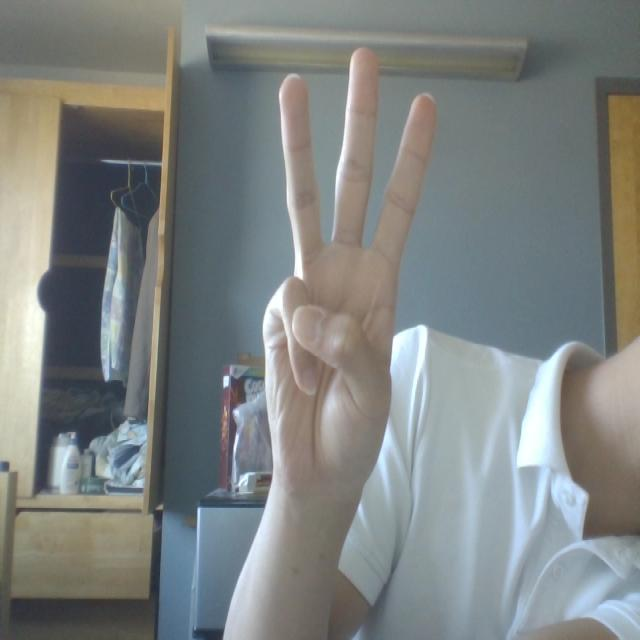W: (208, 16, 479, 527)
